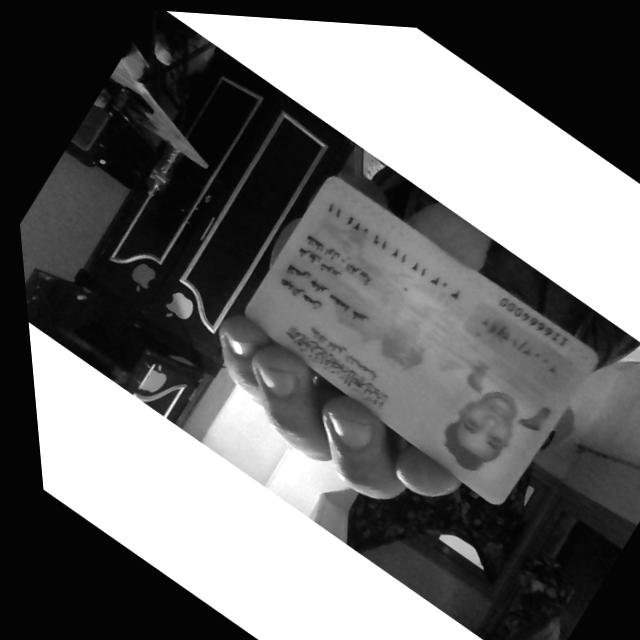front: (245, 176, 597, 504)
